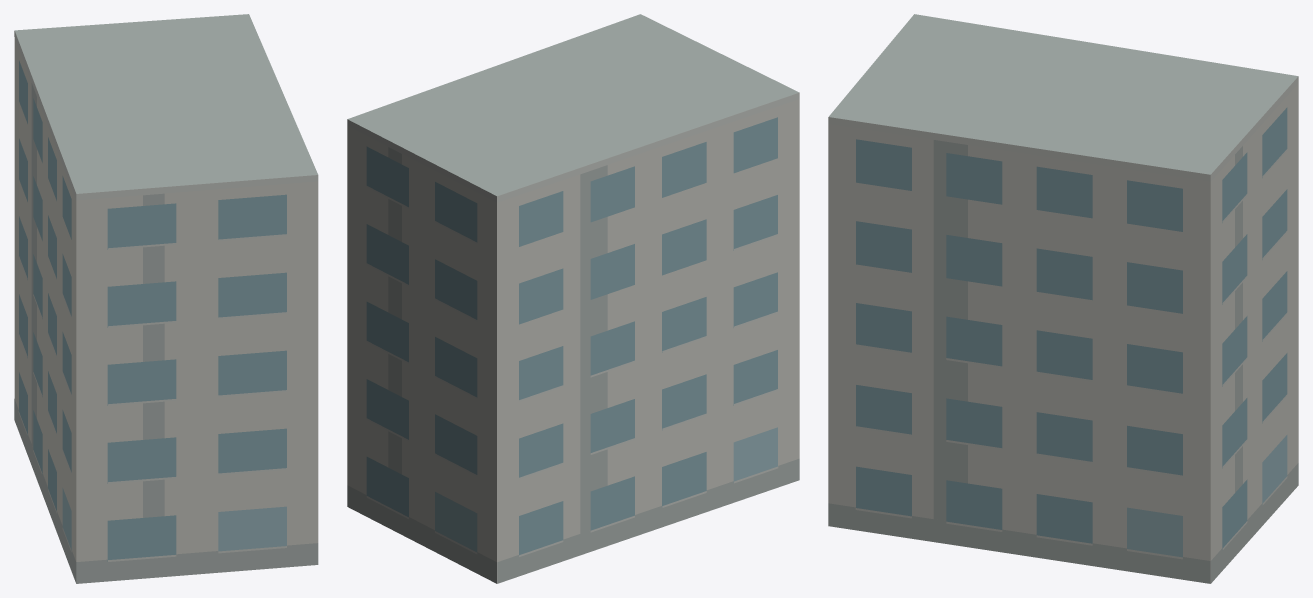
The model's file is survey-upis-32885973.glb.
3 views of the same model, side by side, from view 1: azimuth 30°, elevation 25°; view 2: azimuth 150°, elevation 25°; view 3: azimuth 270°, elevation 25° (orthographic). The views are drawn at different scales.
Visible parts, largest first — view 1: survey-upis-32885973.tmp; view 2: survey-upis-32885973.tmp; view 3: survey-upis-32885973.tmp.
Boxes of the visible parts, box(x1,y1,x2,y2) form: survey-upis-32885973.tmp: box(14, 14, 318, 583); survey-upis-32885973.tmp: box(347, 14, 799, 583); survey-upis-32885973.tmp: box(828, 14, 1298, 583).
Size of the model in its own units: 12.1 by 14.35 by 14.96.
